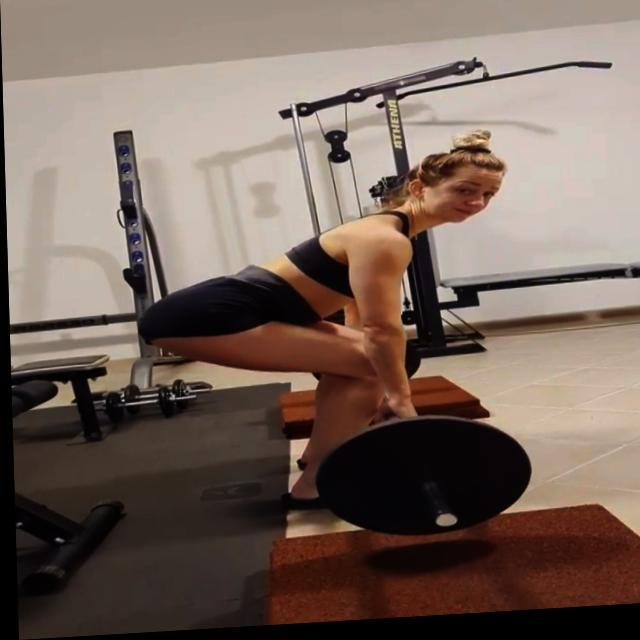barbell: (309, 412, 536, 551)
